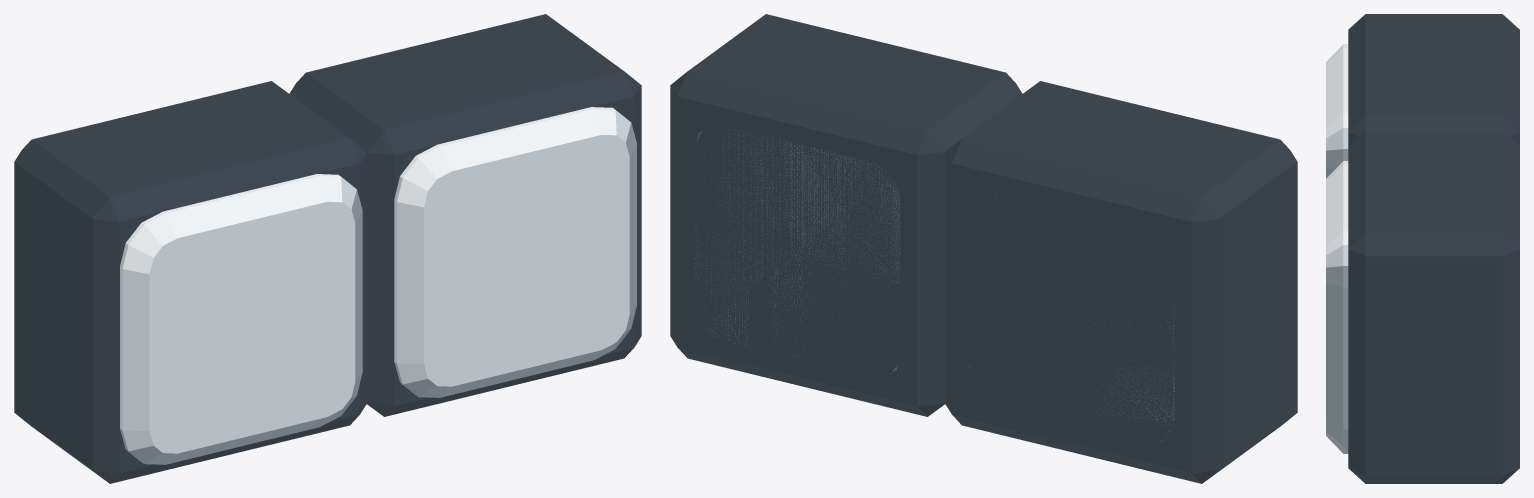
The model's file is Terrain_Block2x1.gltf.
3 renders of one model, left to right at view 1: azimuth 30°, elevation 25°; view 2: azimuth 150°, elevation 25°; view 3: azimuth 270°, elevation 25°, orthographic. The views are drawn at different scales.
Visible parts, largest first — view 1: Terrain_Block2x1_baked; view 2: Terrain_Block2x1_baked; view 3: Terrain_Block2x1_baked.
Boxes of the visible parts, x1=… form: Terrain_Block2x1_baked: x1=14, y1=14, x2=641, y2=483; Terrain_Block2x1_baked: x1=670, y1=14, x2=1297, y2=483; Terrain_Block2x1_baked: x1=1326, y1=14, x2=1519, y2=483.
Bounding box in the file's own units: 2 × 1 × 0.7.
